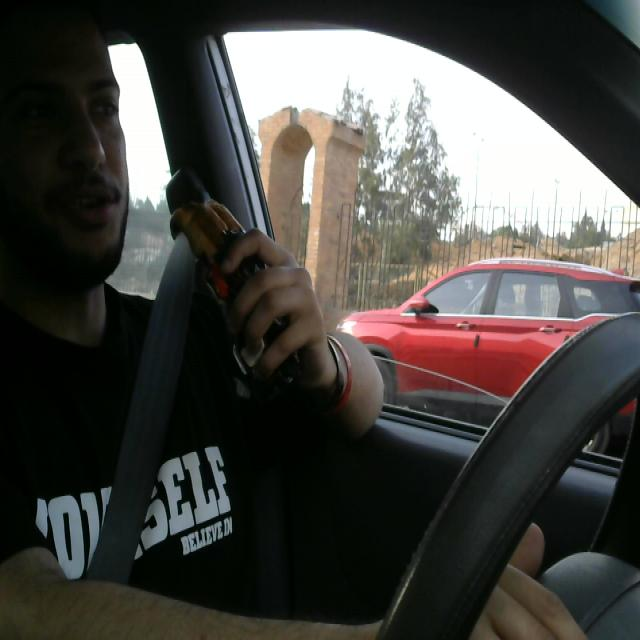eating: (170, 199, 321, 412)
